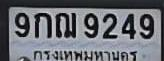2: (102, 12, 116, 38)
4: (121, 12, 135, 38)
9: (14, 11, 29, 36), (139, 13, 153, 38), (83, 12, 97, 37)
A01: (33, 12, 51, 37)
A12: (54, 11, 75, 37)
BKK: (31, 47, 139, 61)
